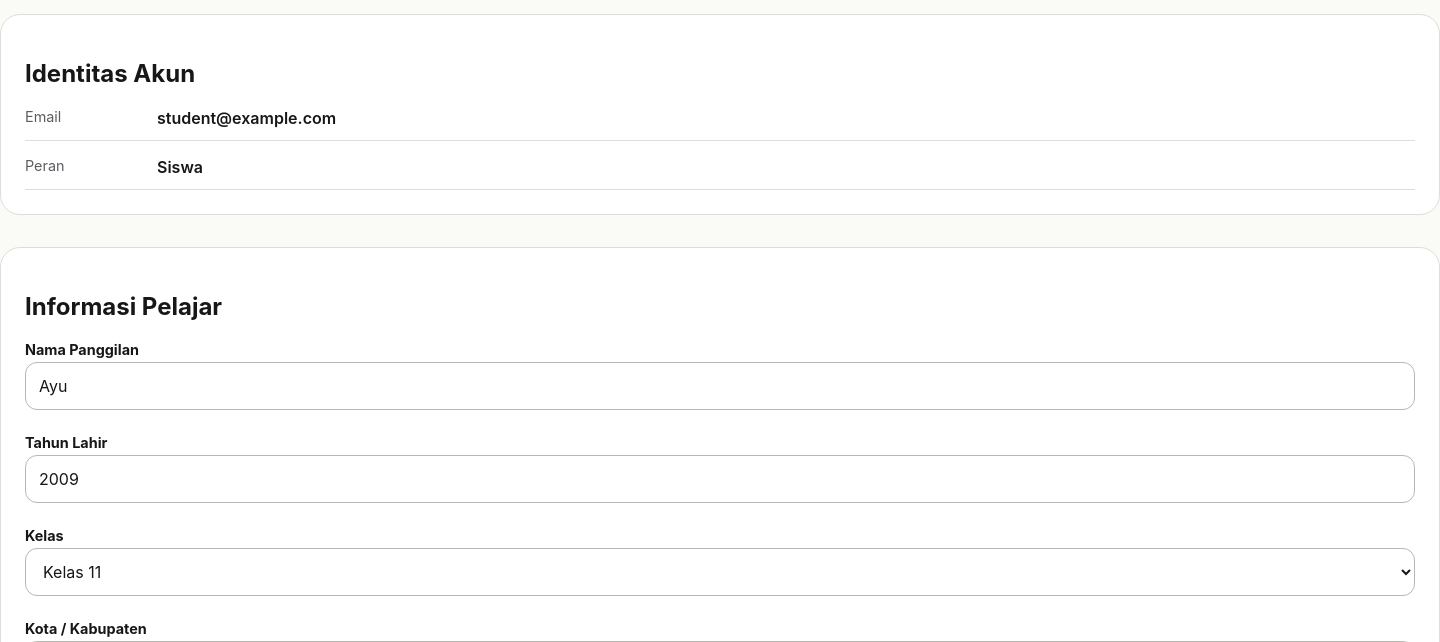
Test case: ProfilePage › validates birth year range and displays inline field error
The image size is (1440, 642).
Replace the text in the field labelled "Tahun Lahir" with "1990": (720, 479) [25, 455, 1415, 503]
(page scrolled)
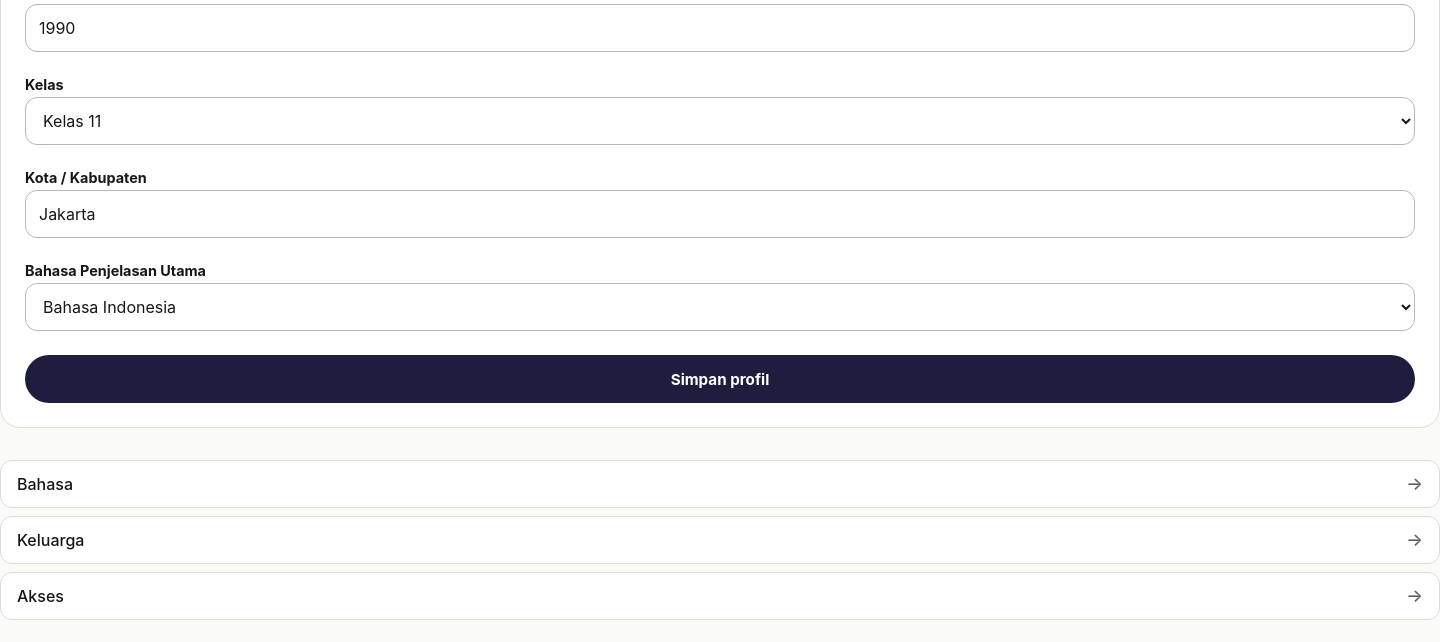
Click the button "Simpan profil": (720, 379) [25, 355, 1415, 403]
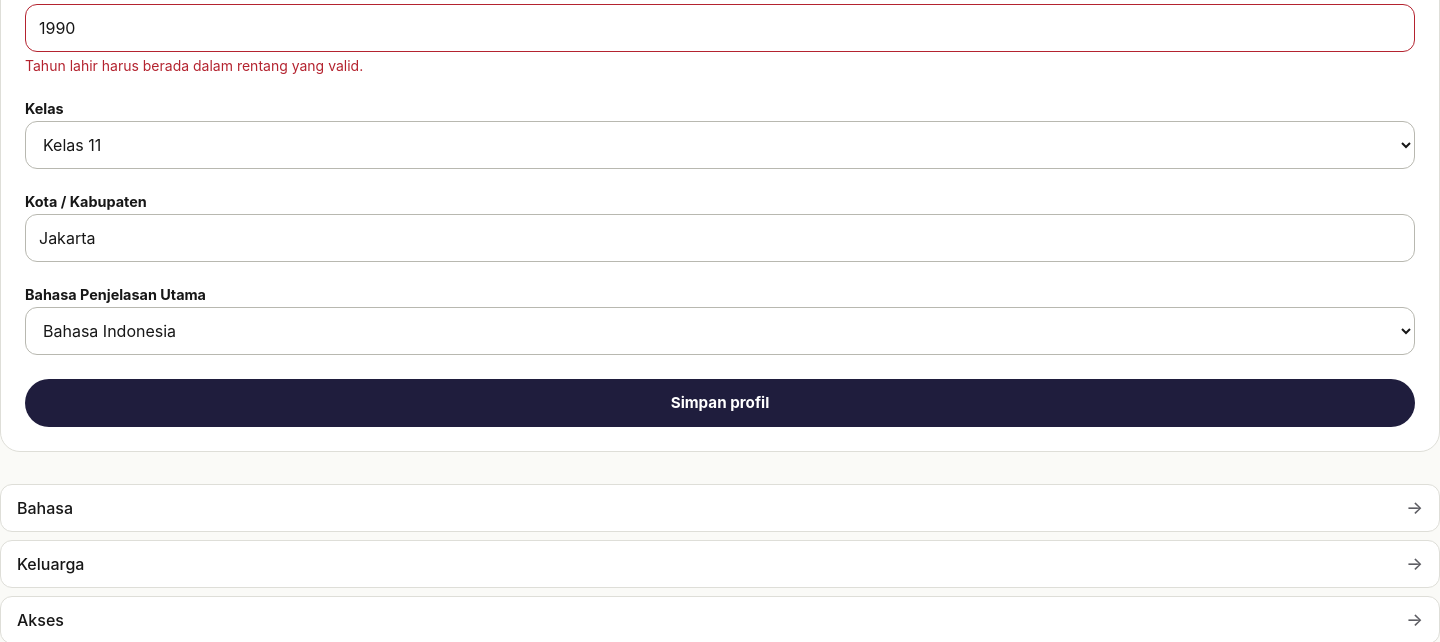
Expected: the text "Tahun lahir harus berada dalam rentang yang valid." is shown, [25, 57, 363, 74]
